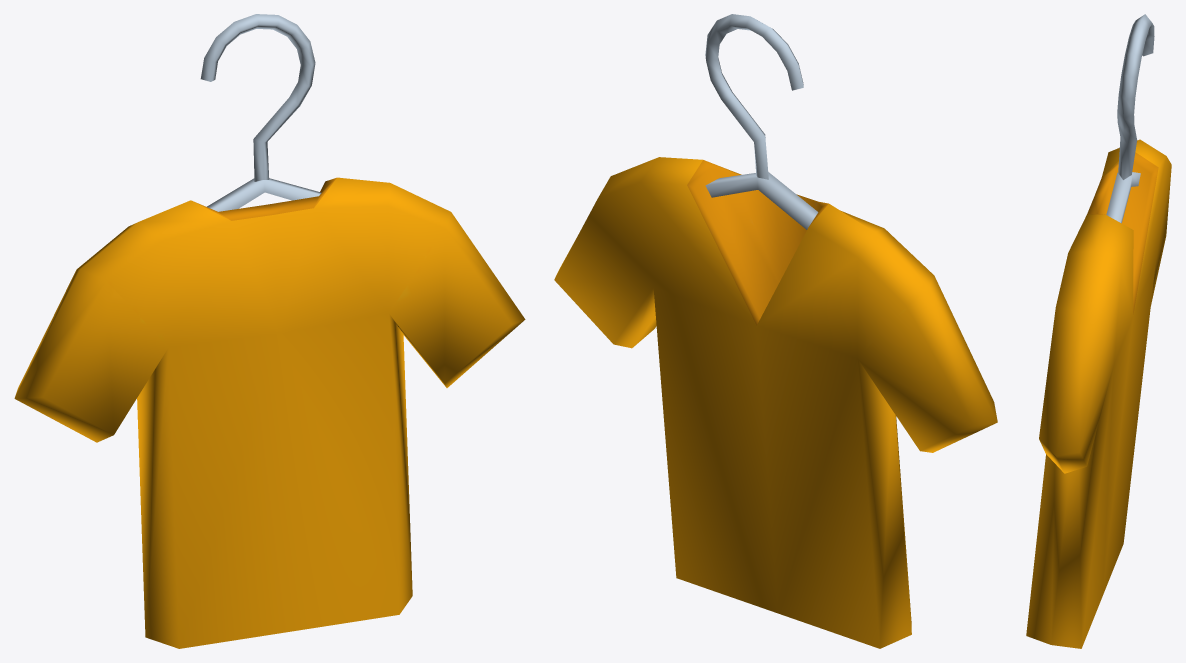
The model's file is TshirtCleanHang.fbx.
3 renders of one model, left to right at view 1: azimuth 30°, elevation 25°; view 2: azimuth 150°, elevation 25°; view 3: azimuth 270°, elevation 25°, orthographic. The views are drawn at different scales.
Visible parts, largest first — view 1: TshirtCleanHang; view 2: TshirtCleanHang; view 3: TshirtCleanHang.
Part boxes in pixels (bbox=[...]): TshirtCleanHang: bbox=[14, 14, 525, 648]; TshirtCleanHang: bbox=[554, 14, 997, 648]; TshirtCleanHang: bbox=[1026, 14, 1171, 648].
Size of the model in its own units: 128 by 153 by 34.8.
